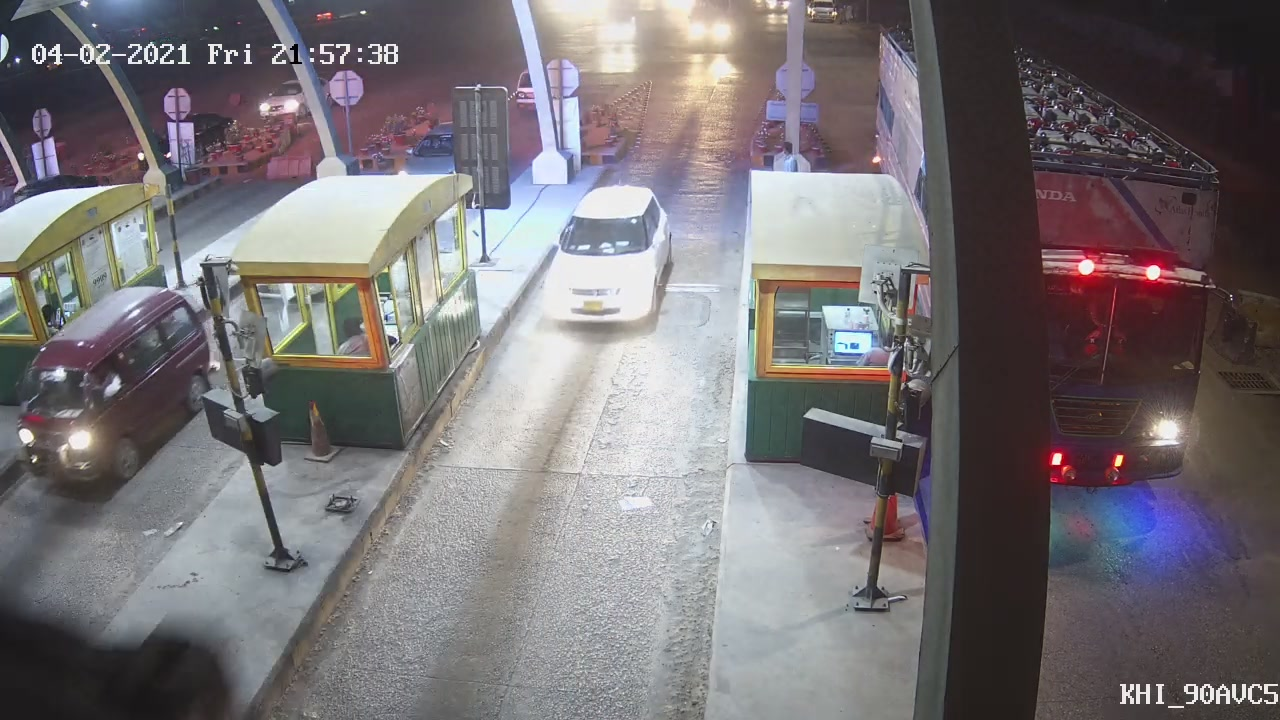F1: (540, 178, 676, 327)
